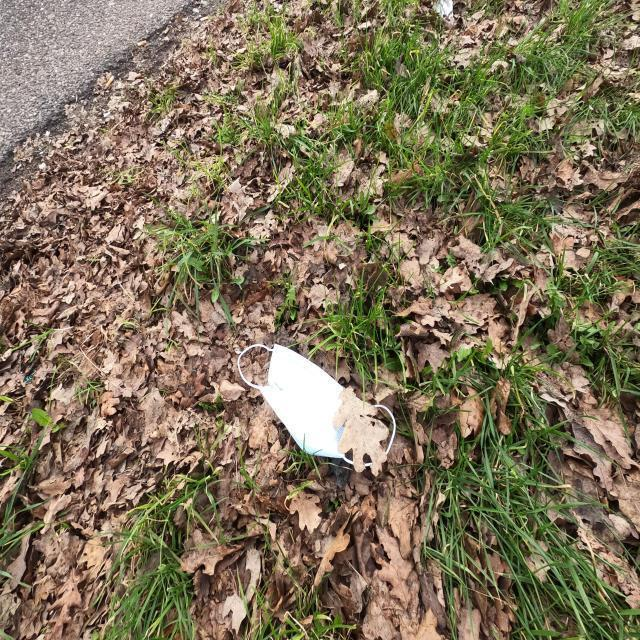Mask: (236, 341, 404, 480)
